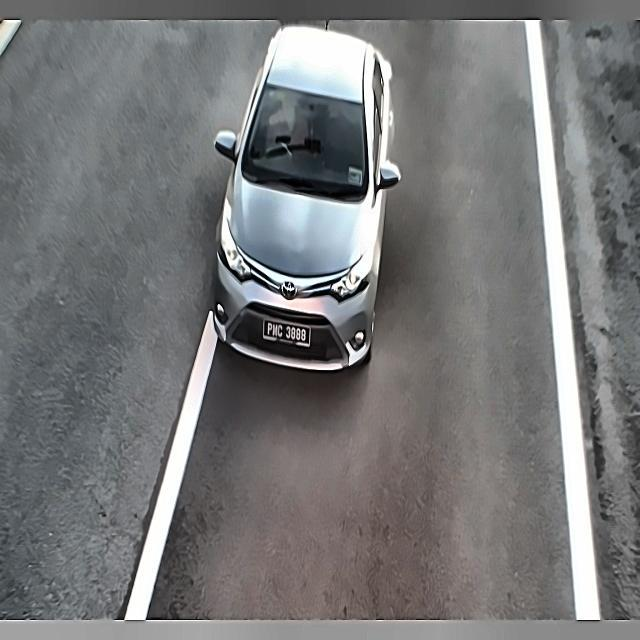car: (260, 314, 315, 354)
